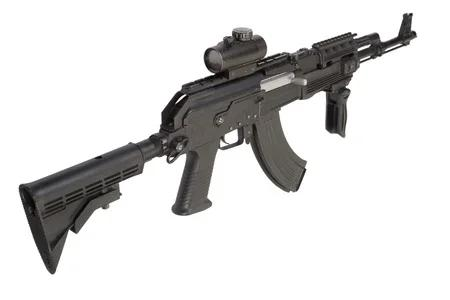larga: (18, 11, 417, 276)
